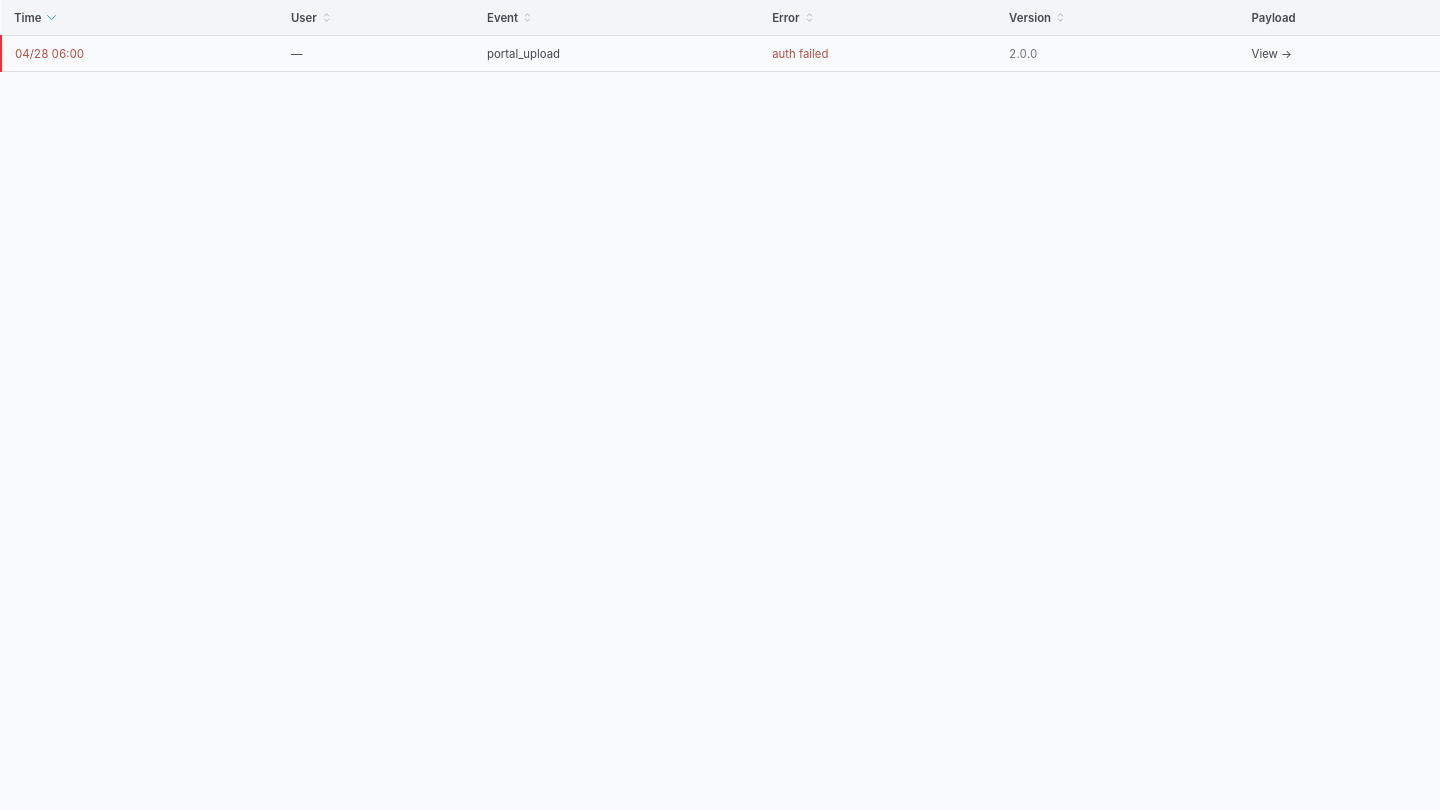
Test: <RecentErrorsTable> › dev: row with null user_email shows "unknown" in modal title
What coordinates should you click on to do the following:
click the button "View →"
I would click on:
 (1272, 54)
Its box is x1=1252 y1=46 x2=1292 y2=62.
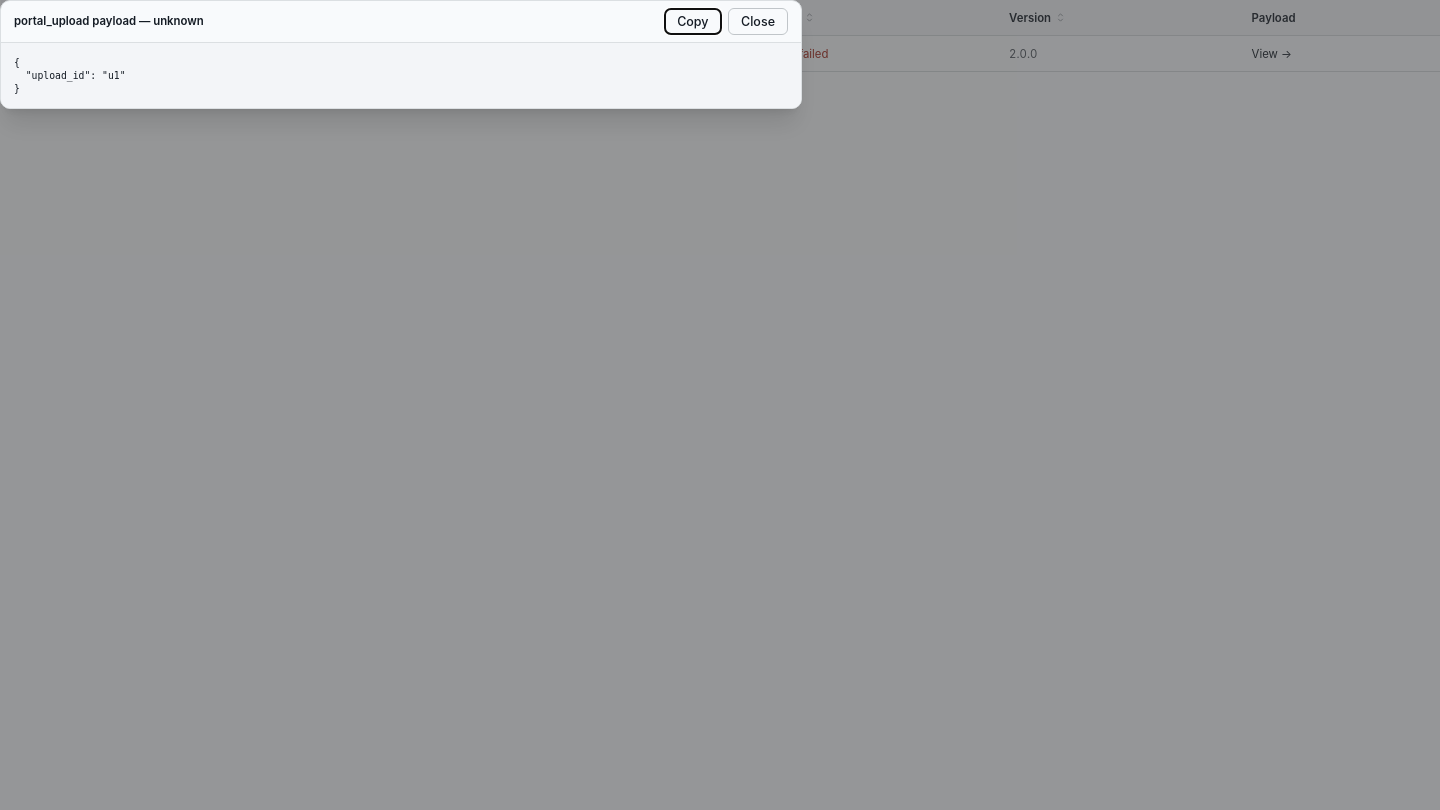
Result: the heading "portal_upload payload — unknown" is shown at x1=14 y1=13 x2=204 y2=30
